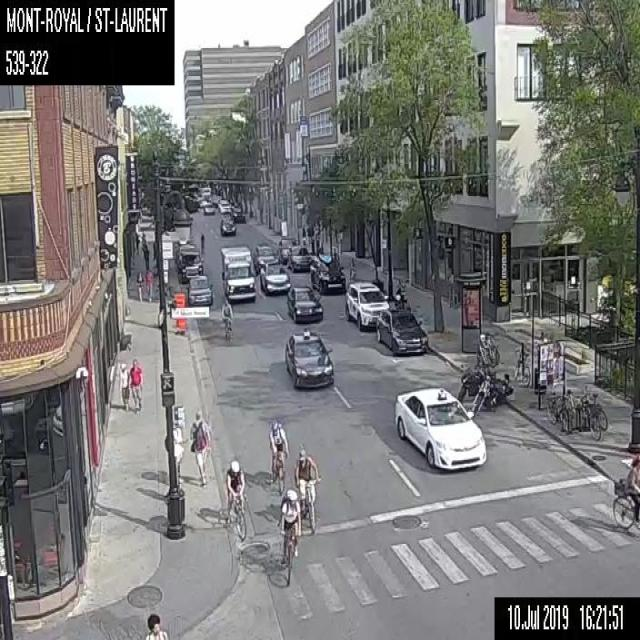construction: (173, 290, 187, 332)
cyclist: (276, 487, 300, 581), (294, 450, 320, 532), (611, 455, 639, 528), (223, 456, 246, 540), (268, 417, 289, 491), (220, 298, 233, 339), (200, 232, 205, 254)
pedestrian: (188, 408, 212, 486), (128, 358, 142, 411), (142, 612, 169, 639), (172, 426, 183, 486), (118, 360, 130, 410), (144, 268, 152, 301), (136, 270, 144, 302), (348, 252, 356, 276), (140, 228, 146, 253), (143, 245, 149, 269), (134, 229, 139, 254)
vehicle: (394, 385, 486, 470), (282, 328, 334, 389), (376, 308, 427, 354), (344, 280, 389, 330), (220, 244, 256, 302), (470, 373, 512, 417), (457, 362, 496, 402), (310, 253, 344, 291), (287, 286, 322, 322), (260, 262, 290, 293), (188, 274, 214, 304), (180, 251, 203, 281), (286, 244, 312, 269), (174, 244, 200, 266), (252, 244, 274, 268), (277, 237, 296, 261), (220, 216, 235, 234), (230, 207, 245, 222), (217, 198, 231, 213), (202, 201, 215, 214)
